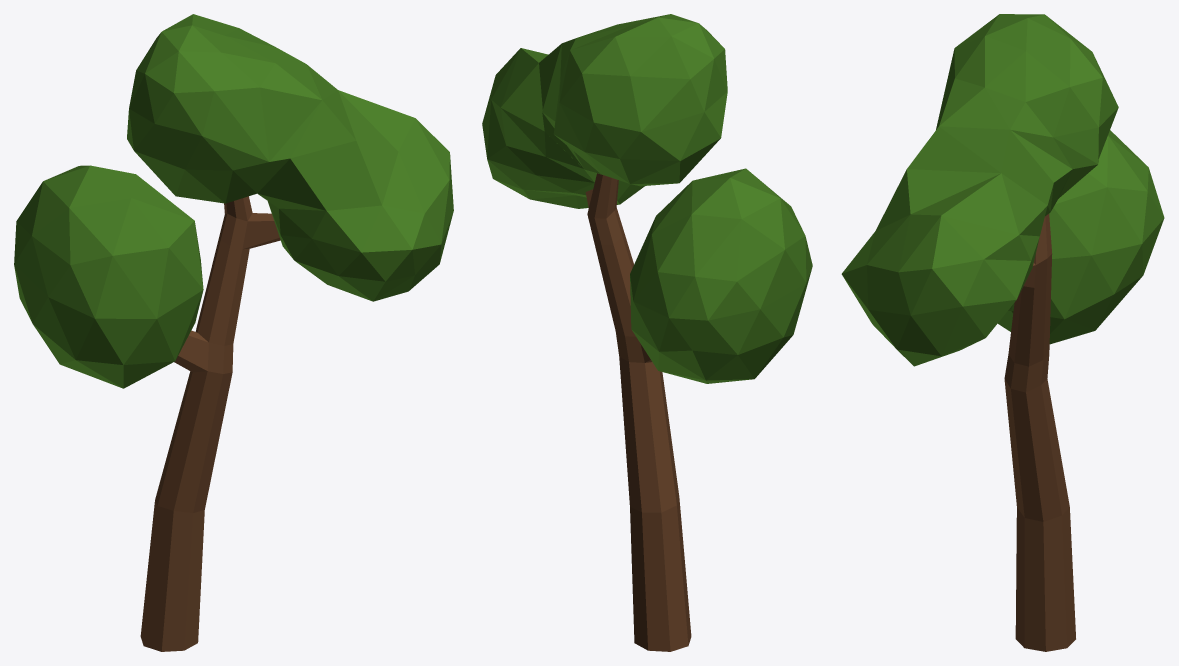
File: tree.fbx
3 renders of one model, left to right at view 1: azimuth 30°, elevation 25°; view 2: azimuth 150°, elevation 25°; view 3: azimuth 270°, elevation 25°, orthographic. The views are drawn at different scales.
Visible parts, largest first — view 1: Norm_Tree_Branches; view 2: Norm_Tree_Branches; view 3: Norm_Tree_Branches.
Boxes of the visible parts, x1,y1,x2,y2 form: Norm_Tree_Branches: (14,14,453,651); Norm_Tree_Branches: (482,14,812,651); Norm_Tree_Branches: (841,14,1164,651).
Size of the model in its own units: 347 by 573 by 267.
